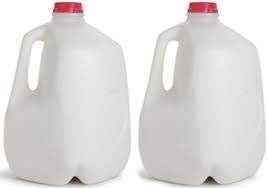milk: (143, 1, 265, 186), (12, 1, 131, 182)
